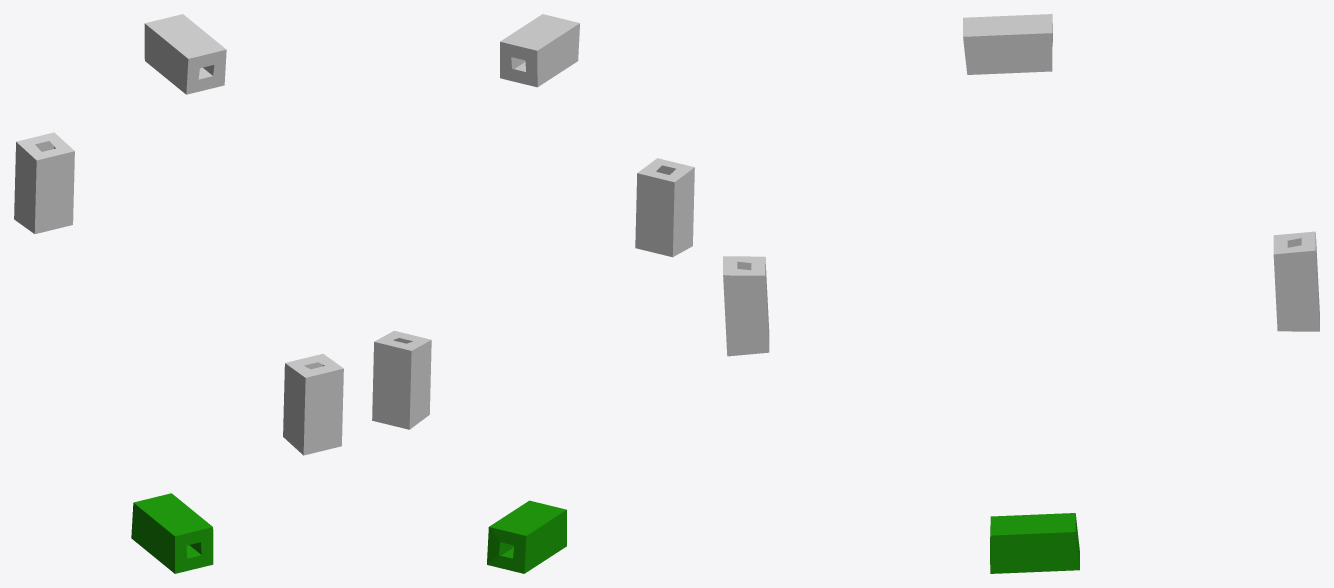
File: ring_indicators.fbx
3 renders of one model, left to right at view 1: azimuth 30°, elevation 25°; view 2: azimuth 150°, elevation 25°; view 3: azimuth 270°, elevation 25°, orthographic. The views are drawn at different scales.
Parts seen in each view (by area): view 1: polySurface1, polySurface3, polySurface2, polySurface4; view 2: polySurface1, polySurface3, polySurface2, polySurface4; view 3: polySurface2, polySurface4, polySurface1, polySurface3.
Part boxes in pixels (x1,y1,x2,y2): polySurface1: (283, 354, 343, 455); polySurface3: (14, 132, 74, 233); polySurface2: (131, 493, 213, 573); polySurface4: (144, 14, 226, 94); polySurface1: (635, 158, 694, 257); polySurface3: (372, 330, 431, 429); polySurface2: (487, 500, 566, 573); polySurface4: (500, 14, 579, 87); polySurface2: (990, 513, 1079, 573); polySurface4: (963, 14, 1052, 74); polySurface1: (723, 256, 769, 356); polySurface3: (1273, 231, 1319, 331).
Bounding box in the file's own units: 0.256 × 3.38 × 3.38.
